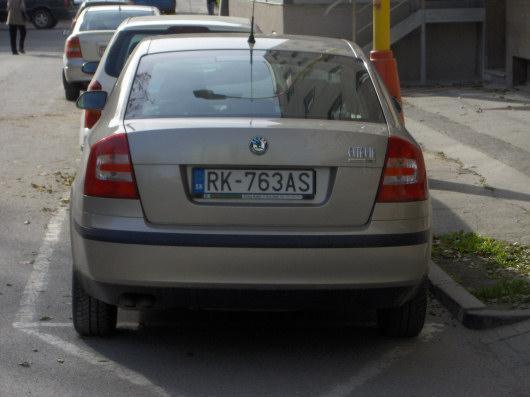placa de veiculo: (180, 153, 329, 215)
